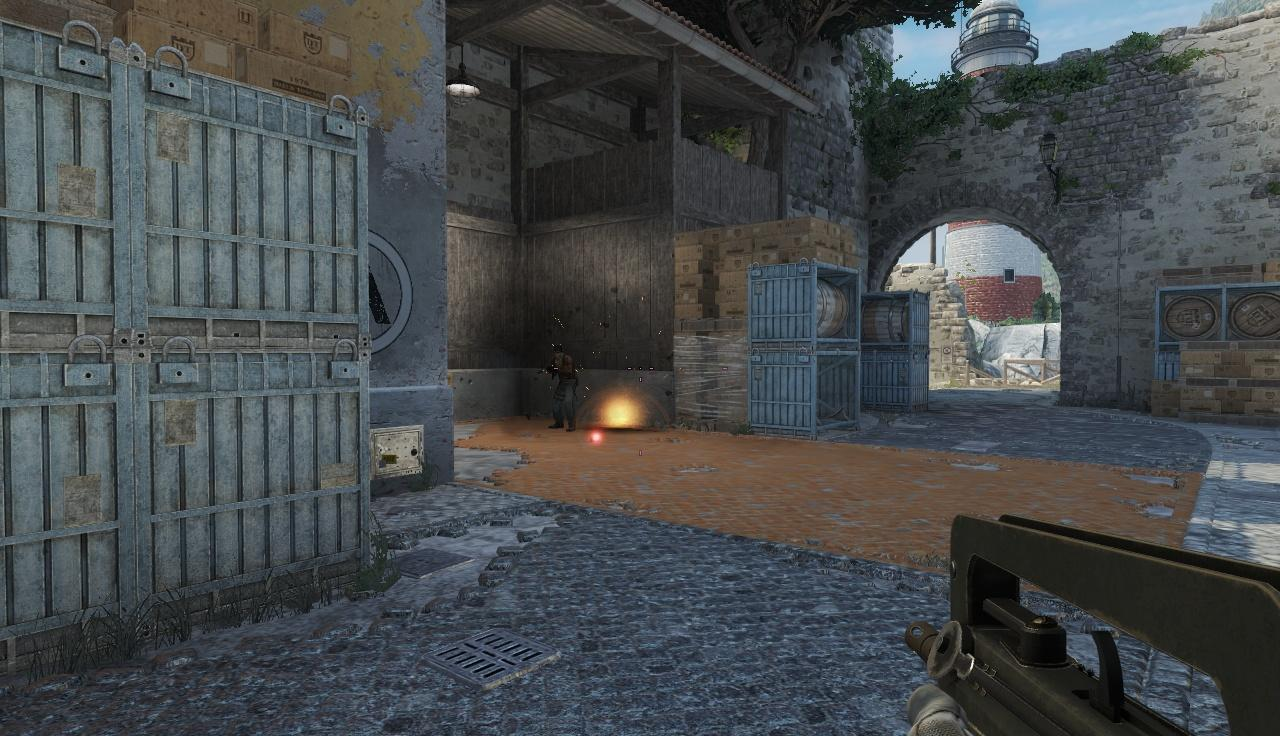rifle: (909, 522, 1280, 736), (908, 528, 1280, 736)
tt: (548, 344, 575, 430)
tthead: (553, 345, 563, 360)
